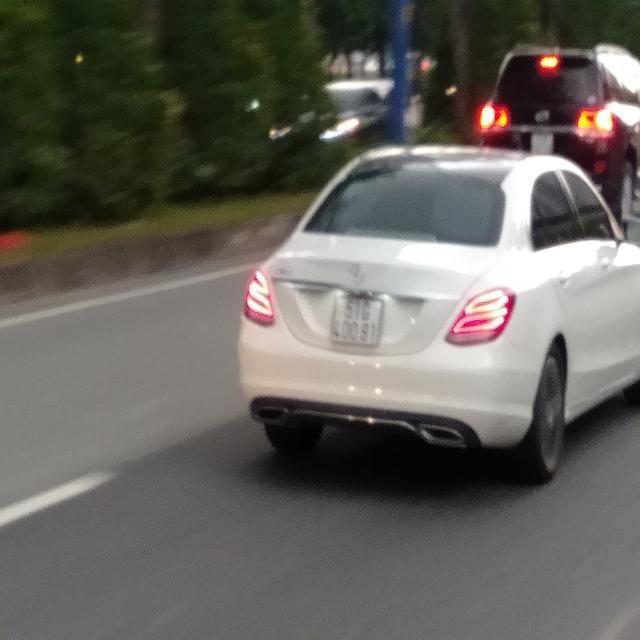bien_trang: (327, 294, 382, 348)
